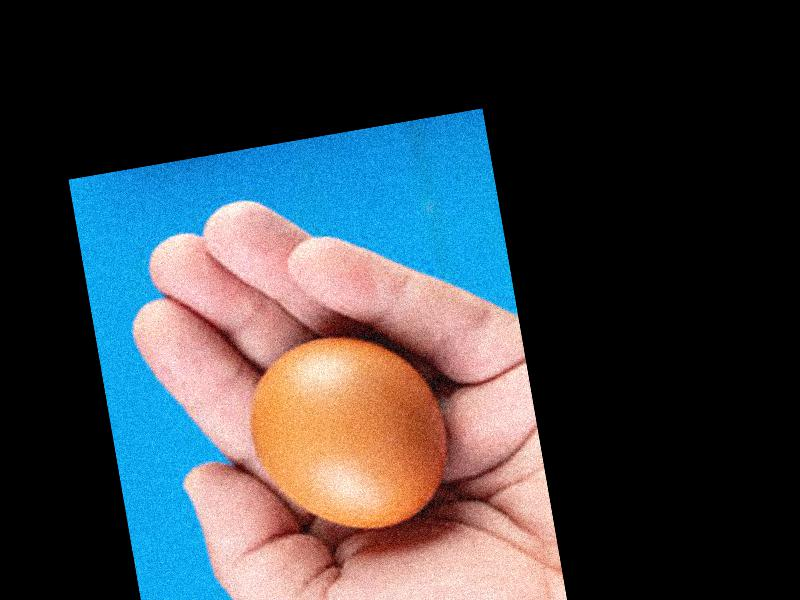Eggs: (238, 319, 454, 545)
